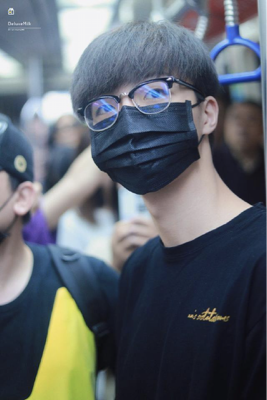with_mask: (88, 70, 206, 195)
